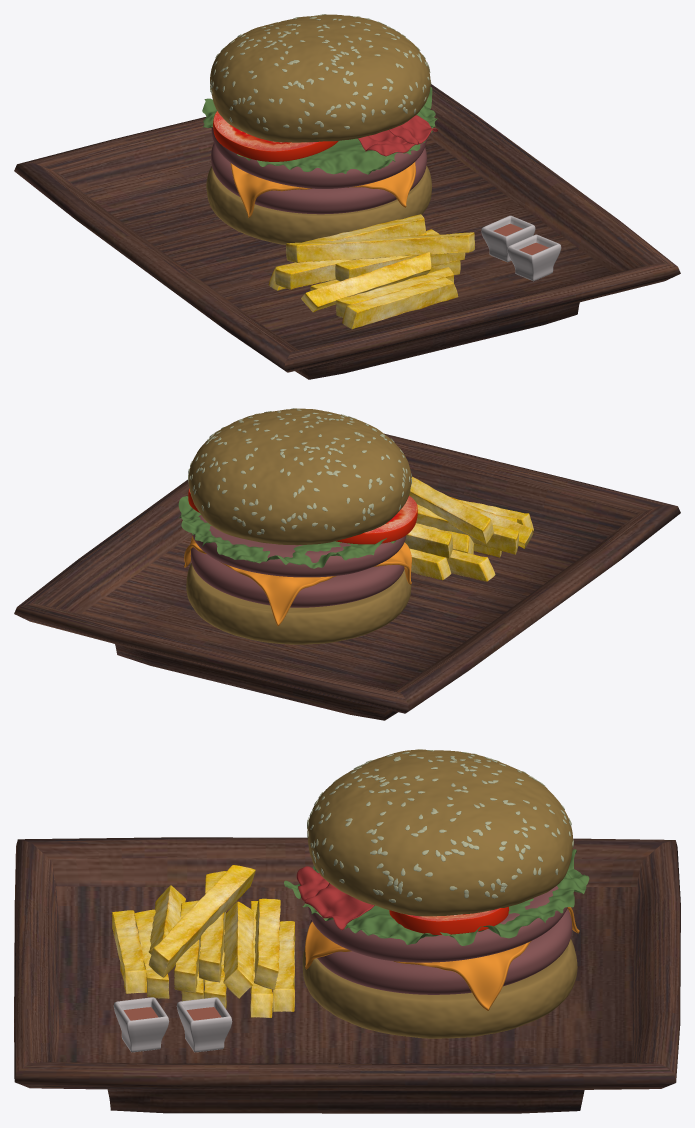
File: menu1.glb
3 views of the same model, one above another, from view 1: azimuth 30°, elevation 25°; view 2: azimuth 150°, elevation 25°; view 3: azimuth 270°, elevation 25° (orthographic). The views are drawn at different scales.
Parts seen in each view (by area): view 1: plato, Cylinder002_7, Cube073, Cylinder002_2, Cylinder002, Cylinder002_3, Cylinder002_8, Cube002, Cylinder002_1, Cube073_1, Cylinder002_4, Cylinder002_5 (+1 smaller); view 2: plato, Cylinder002_7, Cylinder002_2, Cylinder002, Cube073, Cylinder002_3, Cylinder002_8, Cylinder002_1, Cube073_1, Cylinder002_5, Cylinder002_6; view 3: plato, Cylinder002_7, Cube073, Cylinder002, Cylinder002_2, Cube073_1, Cylinder002_3, Cylinder002_8, Cube002, Cylinder002_1, Cylinder002_4, Cylinder002_5 (+1 smaller).
Part boxes in pixels (x1,y1,x2,y2): plato: (14, 84, 680, 379); Cylinder002_7: (210, 14, 430, 142); Cube073: (277, 214, 471, 328); Cylinder002_2: (211, 127, 427, 214); Cylinder002: (206, 165, 431, 244); Cylinder002_3: (202, 87, 437, 174); Cylinder002_8: (210, 14, 431, 135); Cube002: (481, 215, 561, 281); Cylinder002_1: (230, 162, 415, 217); Cube073_1: (268, 214, 474, 329); Cylinder002_4: (358, 115, 437, 156); Cylinder002_5: (213, 112, 338, 161); plato: (14, 433, 680, 720); Cylinder002_7: (188, 408, 411, 545); Cylinder002_2: (190, 515, 406, 607); Cylinder002: (186, 563, 411, 644); Cube073: (405, 476, 530, 580); Cylinder002_3: (178, 496, 396, 568); Cylinder002_8: (188, 408, 411, 534); Cylinder002_1: (184, 536, 411, 625); Cube073_1: (436, 511, 533, 581); Cylinder002_5: (188, 488, 417, 544); Cylinder002_6: (189, 489, 417, 533); plato: (14, 837, 680, 1113); Cylinder002_7: (307, 749, 572, 916); Cube073: (112, 865, 295, 1012); Cylinder002: (302, 939, 577, 1038); Cylinder002_2: (308, 886, 572, 994); Cube073_1: (112, 865, 294, 1017); Cylinder002_3: (284, 849, 589, 945); Cylinder002_8: (307, 749, 573, 902); Cube002: (113, 997, 232, 1052); Cylinder002_1: (305, 907, 579, 1010); Cylinder002_4: (296, 866, 374, 930); Cylinder002_5: (389, 906, 508, 934).
Bounding box in the file's own units: 0.4291 × 0.2201 × 0.5033.
14 materials, 4 textured.
